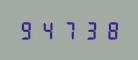eight: (98, 20, 117, 40)
four: (38, 20, 57, 40)
nine: (18, 20, 37, 40)
seven: (58, 20, 77, 40)
three: (78, 20, 97, 40)
